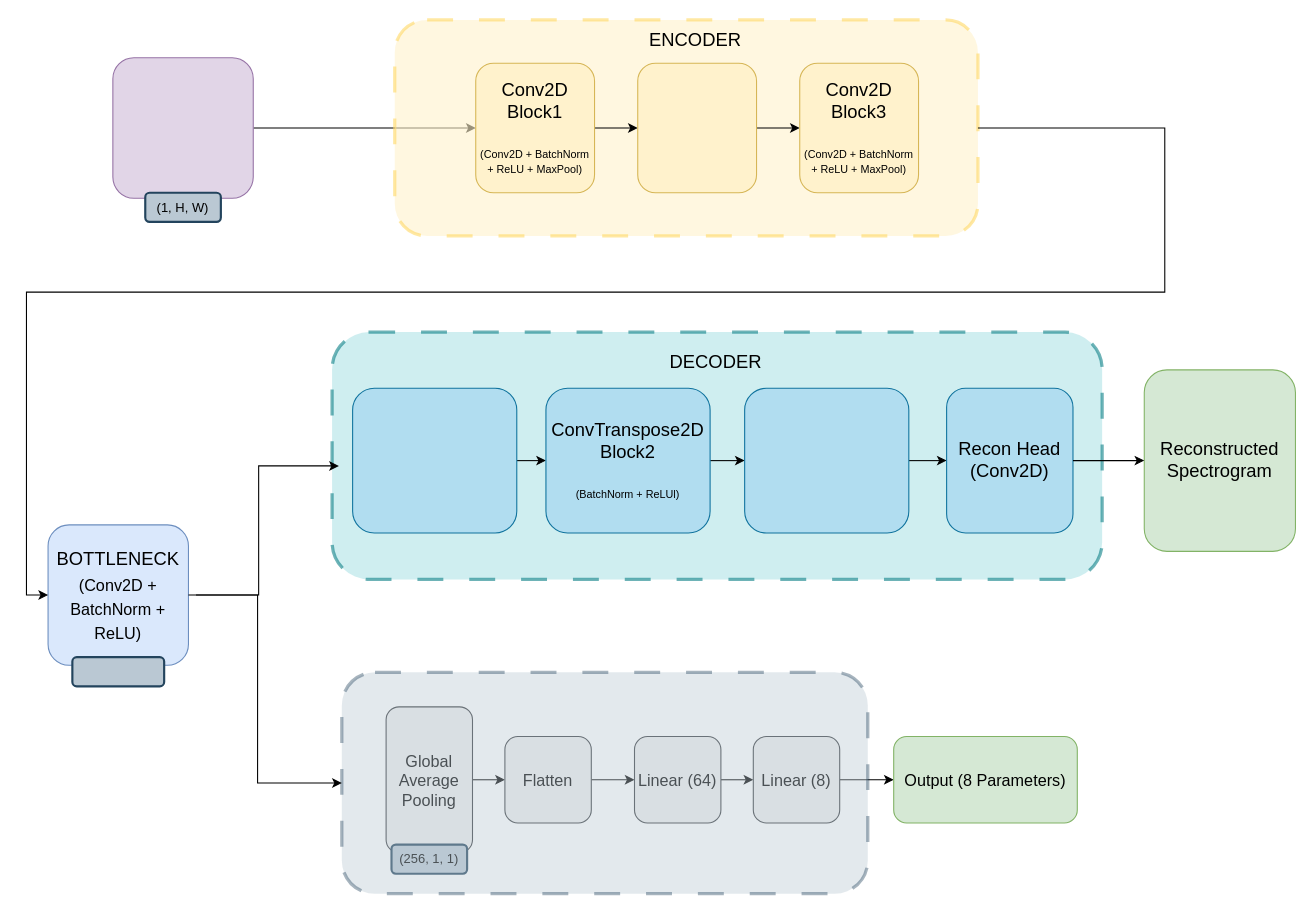
The diagram is 1314 pixels wide and 914 high, and some of its shapes have lost their labels. Here are the shapes that lost their labels. From the top down, the box of each, then its label:
(112, 57, 253, 198): Target Audio (Spectrogram)
(637, 62, 757, 193): Conv2D Block2 ( Conv2D + BatchNorm + ReLU + MaxPool)
(352, 387, 517, 533): ConvTranspose2D Block1 ( BatchNorm + ReLUl)
(744, 387, 909, 533): ConvTranspose2D Block3 ( BatchNorm + ReLUl)
(71, 656, 165, 687): (256, H/8, W/8)
(340, 670, 869, 895): REGRESSION HEAD
